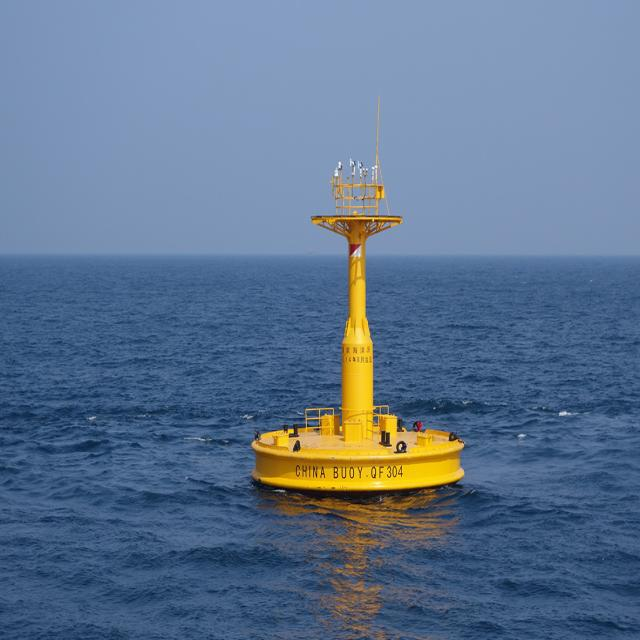buoy: (246, 141, 470, 495)
